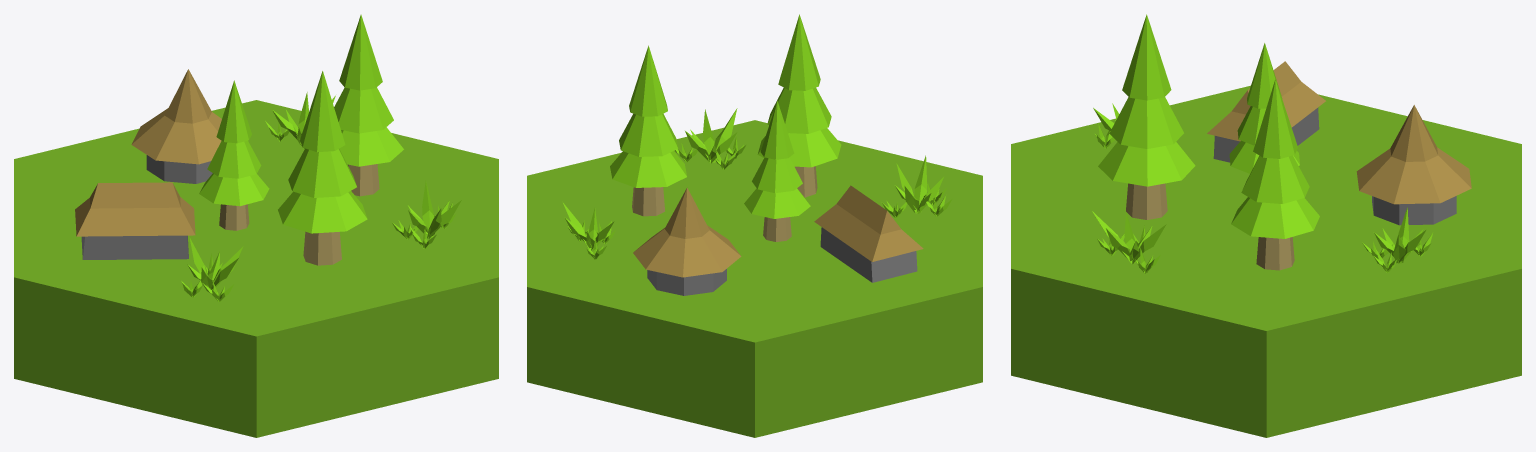
File: Casas_Pinos_Bajos_2.fbx
The picture shows the model from 3 angles, left to right: view 1: azimuth 30°, elevation 25°; view 2: azimuth 150°, elevation 25°; view 3: azimuth 270°, elevation 25°; orthographic projection. The views are drawn at different scales.
Visible parts, largest first — view 1: Casas_Pinos_Bajos_2; view 2: Casas_Pinos_Bajos_2; view 3: Casas_Pinos_Bajos_2.
Boxes of the visible parts, x1,y1,x2,y2 form: Casas_Pinos_Bajos_2: (14,14,498,437); Casas_Pinos_Bajos_2: (527,14,982,437); Casas_Pinos_Bajos_2: (1011,14,1521,437).
Size of the model in its own units: 200 by 114 by 173.
